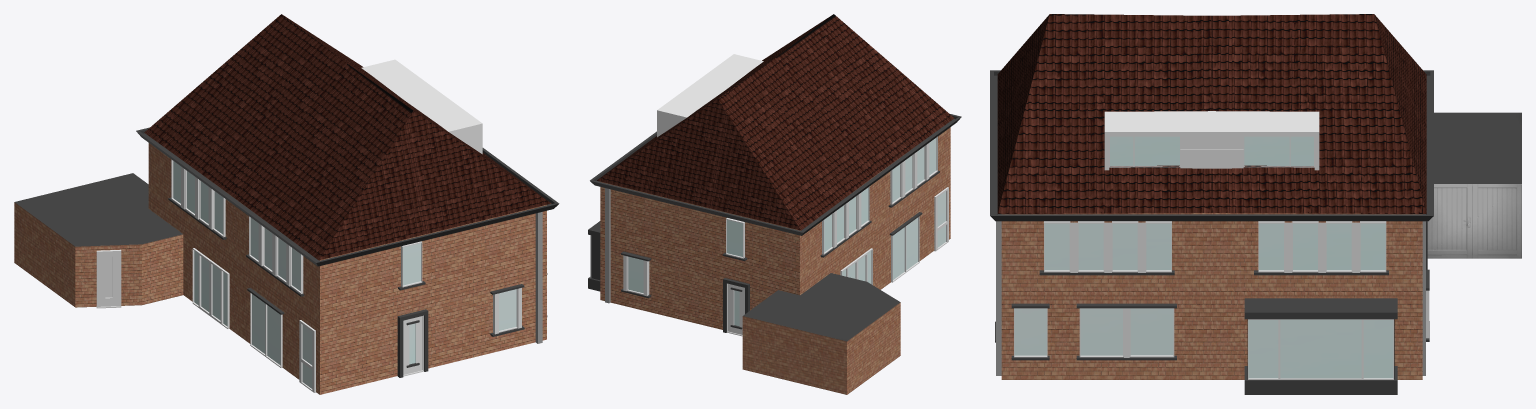
Rendered from Greide 10 en 12.fbx.
The picture shows the model from 3 angles, left to right: view 1: azimuth 30°, elevation 25°; view 2: azimuth 150°, elevation 25°; view 3: azimuth 270°, elevation 25°; orthographic projection. The views are drawn at different scales.
Parts seen in each view (by area): view 1: Greide_10_12; view 2: Greide_10_12; view 3: Greide_10_12.
Boxes of the visible parts, <box> form: Greide_10_12: <box>14,14,559,394</box>; Greide_10_12: <box>588,14,961,394</box>; Greide_10_12: <box>990,14,1521,394</box>.
Size of the model in its own units: 15.18 by 10.21 by 16.48.
1 material, 1 textured.
